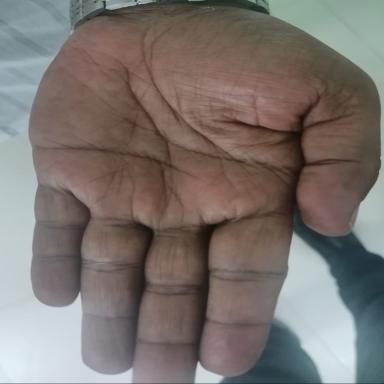normal skin: (31, 1, 379, 383)
